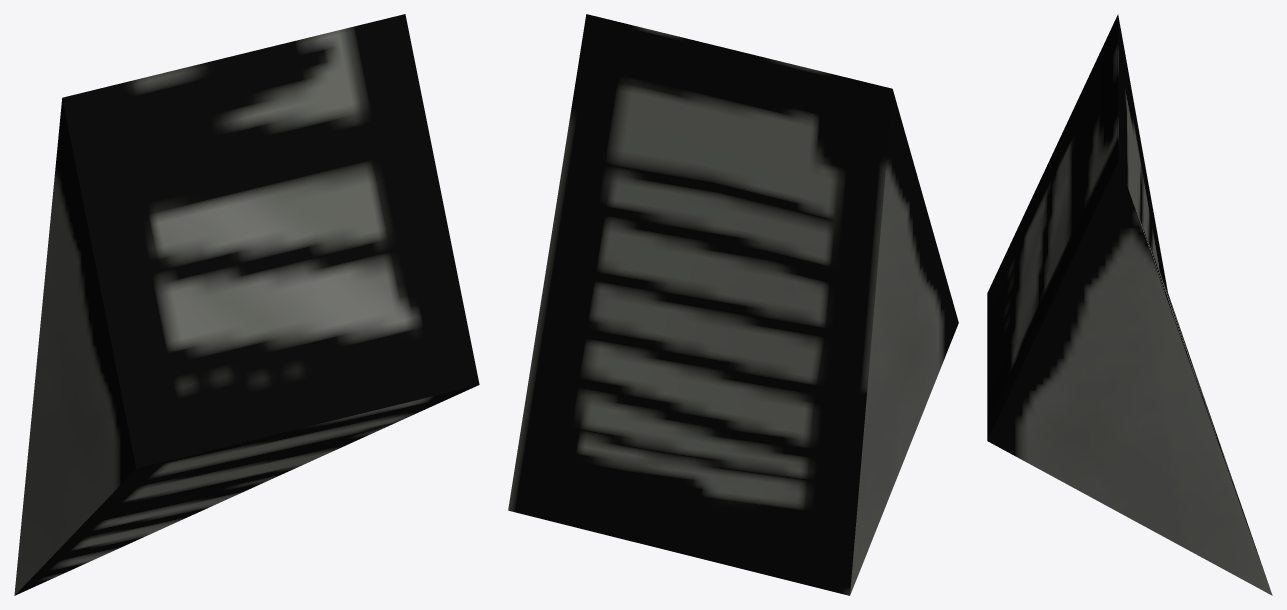
The model's file is tombstone_02_gib2.fbx.
3 views of the same model, side by side, from view 1: azimuth 30°, elevation 25°; view 2: azimuth 150°, elevation 25°; view 3: azimuth 270°, elevation 25° (orthographic). The views are drawn at different scales.
Parts seen in each view (by area): view 1: tombstone_02_gib2; view 2: tombstone_02_gib2; view 3: tombstone_02_gib2.
Part boxes in pixels (left/top/right/bottom): tombstone_02_gib2: left=14, top=14, right=479, bottom=595; tombstone_02_gib2: left=508, top=14, right=958, bottom=595; tombstone_02_gib2: left=987, top=14, right=1272, bottom=595.
Bounding box in the file's own units: 1 × 1.48 × 0.8163.
